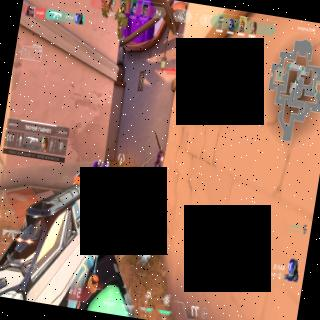ENEMY-BODY: (151, 144, 166, 184)
ENEMY-HEAD: (158, 147, 162, 152)
